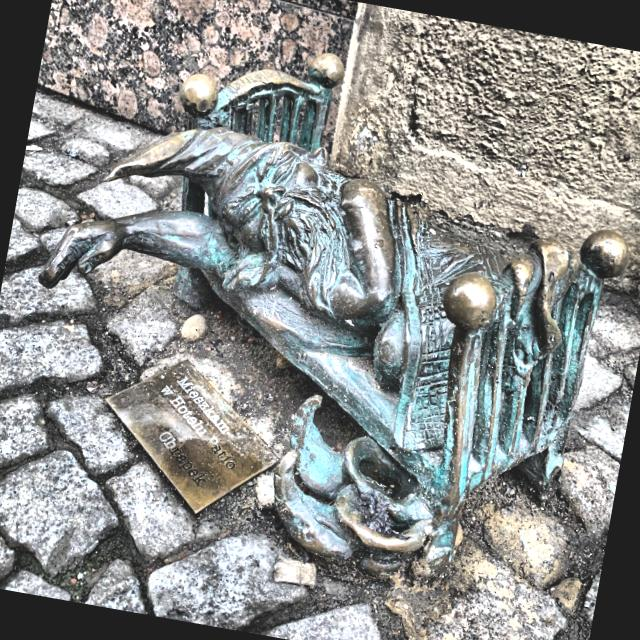Chrapek: (38, 56, 627, 578)
